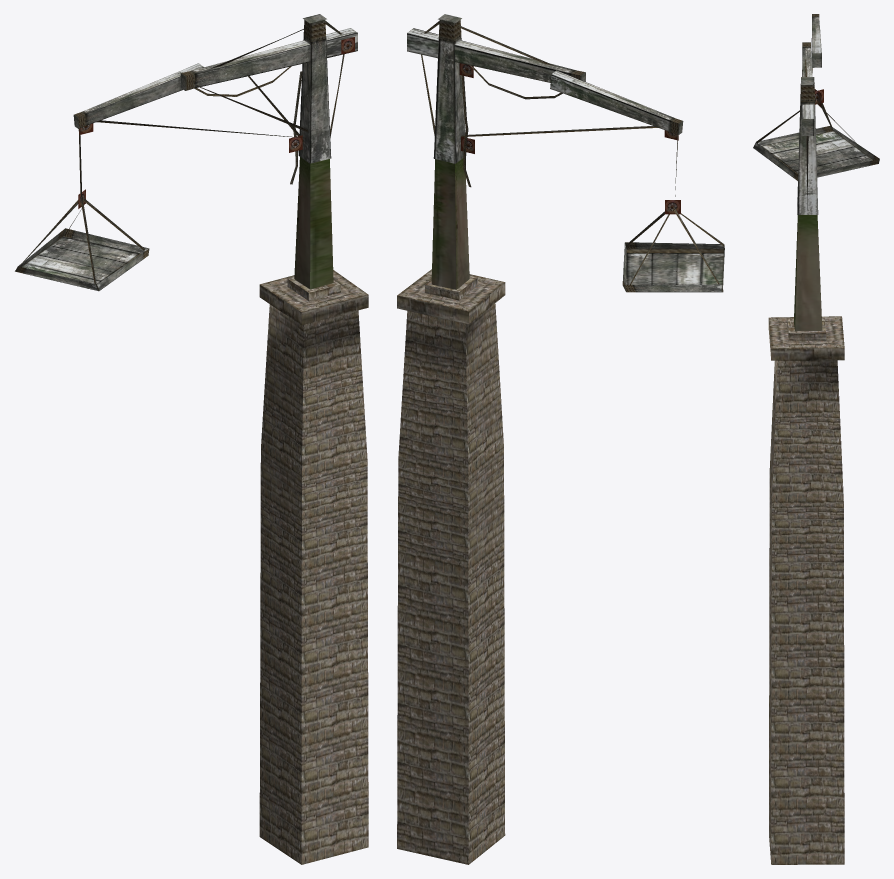
File: Crane_A.fbx
The picture shows the model from 3 angles, left to right: view 1: azimuth 30°, elevation 25°; view 2: azimuth 150°, elevation 25°; view 3: azimuth 270°, elevation 25°; orthographic projection. The views are drawn at different scales.
Parts seen in each view (by area): view 1: craneA_pillar, craneA_arm, craneA_platform, craneA_post_01, craneA_post_02; view 2: craneA_pillar, craneA_arm, craneA_platform, craneA_post_01, craneA_post_02; view 3: craneA_pillar, craneA_platform, craneA_post_01, craneA_post_02, craneA_arm.
Boxes of the visible parts, x1=… form: craneA_pillar: x1=259, y1=270, x2=368, y2=864; craneA_arm: x1=73, y1=28, x2=357, y2=128; craneA_platform: x1=15, y1=228, x2=149, y2=291; craneA_post_01: x1=294, y1=157, x2=333, y2=289; craneA_post_02: x1=298, y1=20, x2=331, y2=163; craneA_pillar: x1=397, y1=269, x2=505, y2=864; craneA_arm: x1=407, y1=28, x2=683, y2=135; craneA_platform: x1=622, y1=242, x2=724, y2=292; craneA_post_01: x1=431, y1=158, x2=469, y2=289; craneA_post_02: x1=433, y1=20, x2=466, y2=163; craneA_pillar: x1=768, y1=316, x2=844, y2=864; craneA_platform: x1=753, y1=126, x2=879, y2=180; craneA_post_01: x1=794, y1=215, x2=822, y2=331; craneA_post_02: x1=797, y1=82, x2=818, y2=214; craneA_arm: x1=801, y1=14, x2=821, y2=135.
Bounding box in the file's own units: 4011 × 9659 × 1446.
2 materials, 2 textured.
